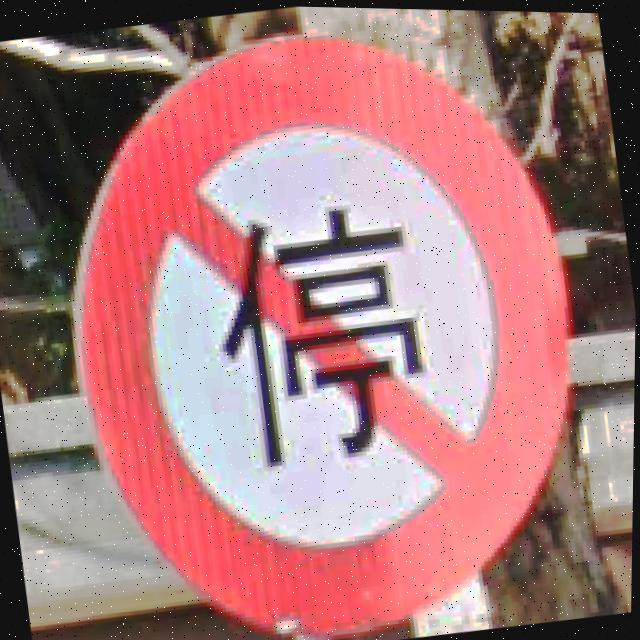nopark: (28, 1, 617, 640)
